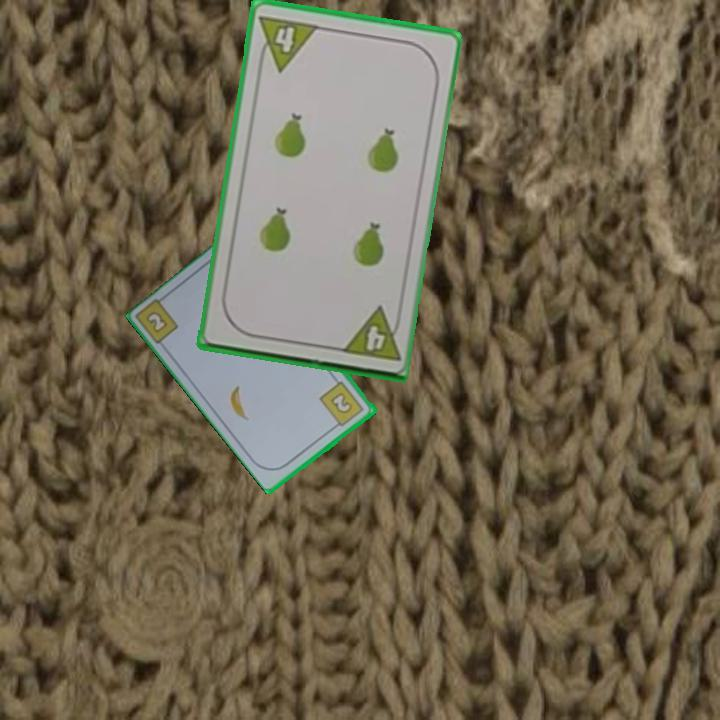2b: (316, 378, 367, 432), (143, 308, 171, 336)
4p: (253, 11, 321, 75), (336, 303, 405, 364)
